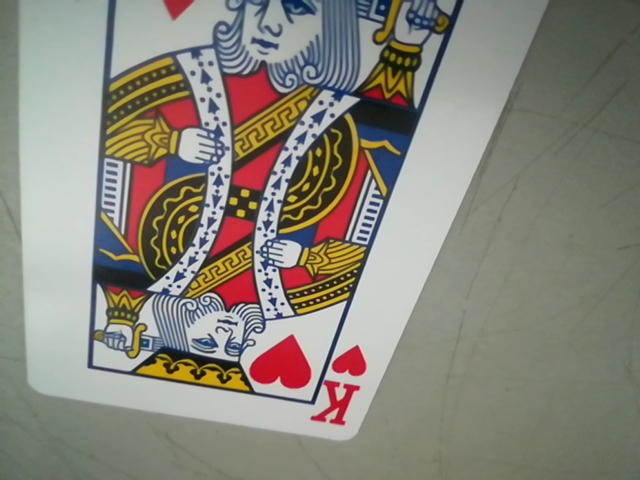hx k: (306, 343, 373, 433)
